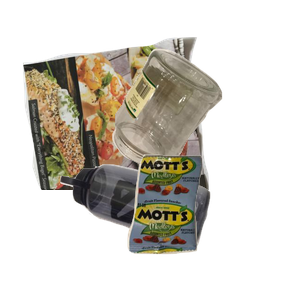glass: (110, 46, 300, 205)
paper: (20, 34, 221, 214)
plastic: (58, 162, 261, 300)
trash: (125, 152, 300, 300)
